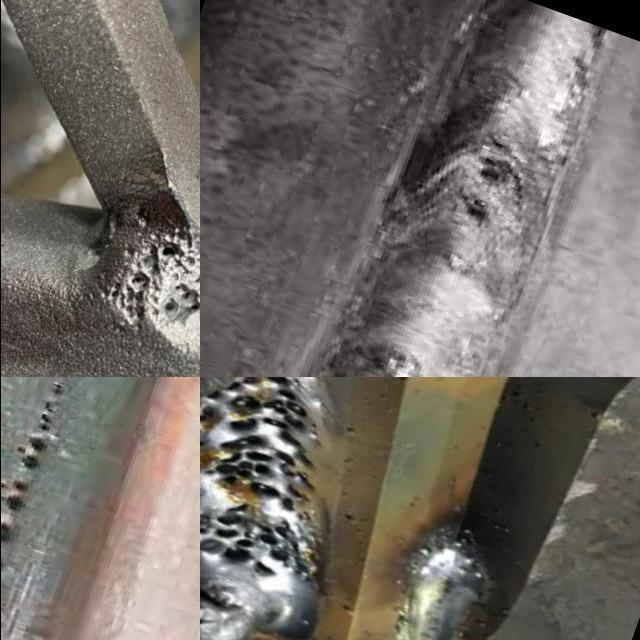defect: (199, 377, 327, 599), (92, 234, 194, 321), (12, 377, 66, 475), (474, 130, 526, 189), (455, 183, 504, 228), (160, 273, 199, 317)
